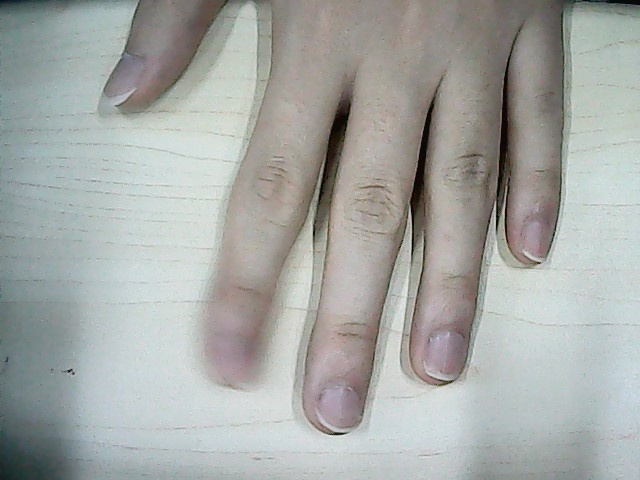nail: (424, 329, 468, 381), (321, 385, 362, 433), (103, 58, 136, 104), (524, 222, 549, 264)
